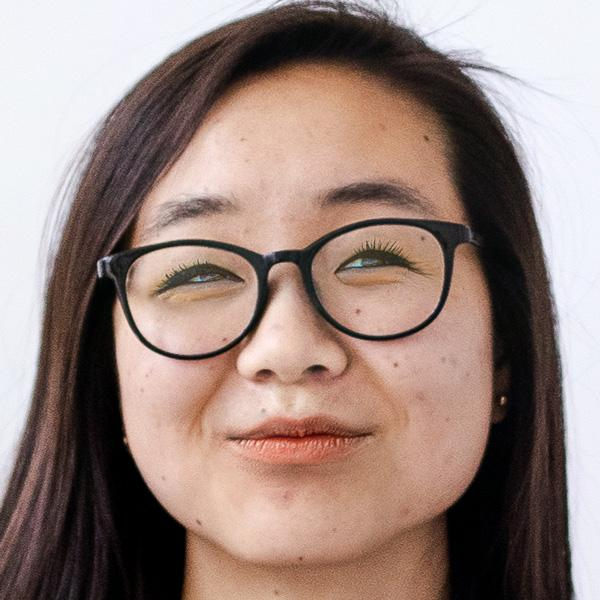Eyes: (320, 233, 431, 294), (149, 254, 250, 310)
